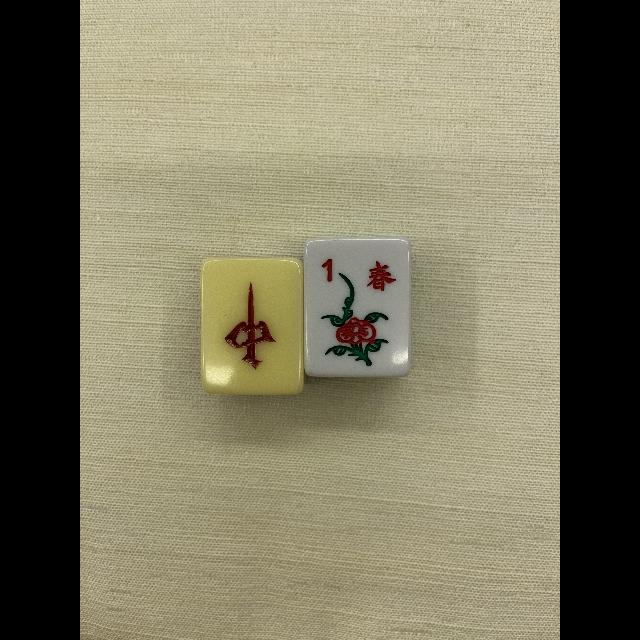dr: (203, 260, 301, 392)
s1: (307, 240, 407, 298)
